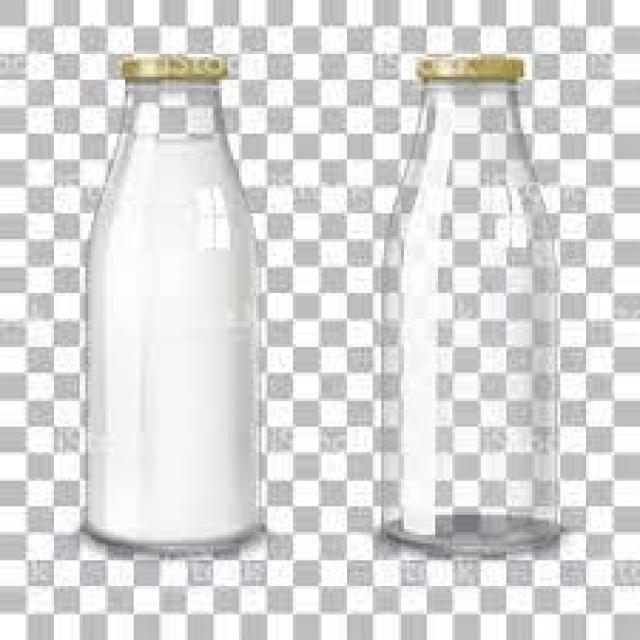Glass-Non-Biodegradable but Recyclable-: (373, 54, 565, 555), (83, 54, 268, 553)
